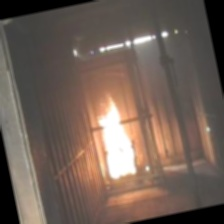fire: (88, 87, 145, 186)
